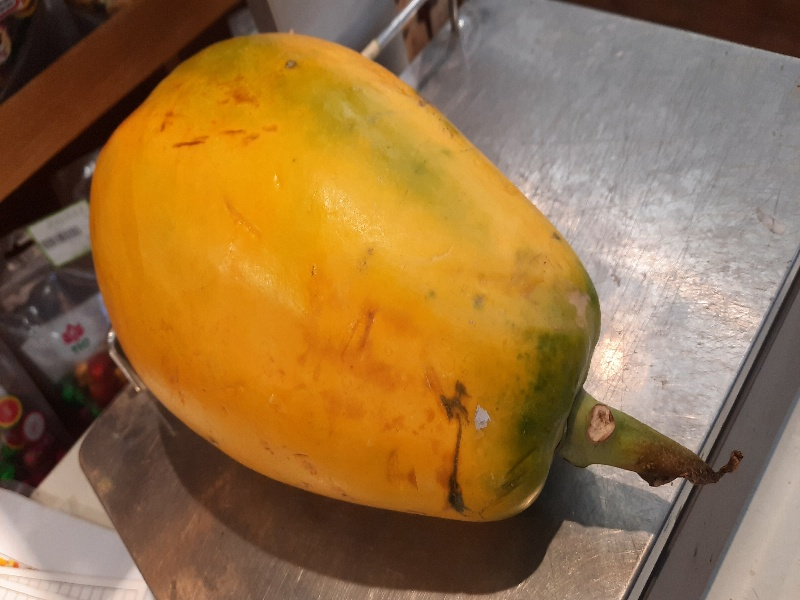fruit: (85, 26, 746, 527)
